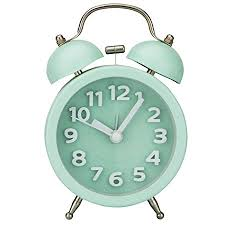alarm_clock: (43, 0, 186, 215), (54, 0, 186, 215)
